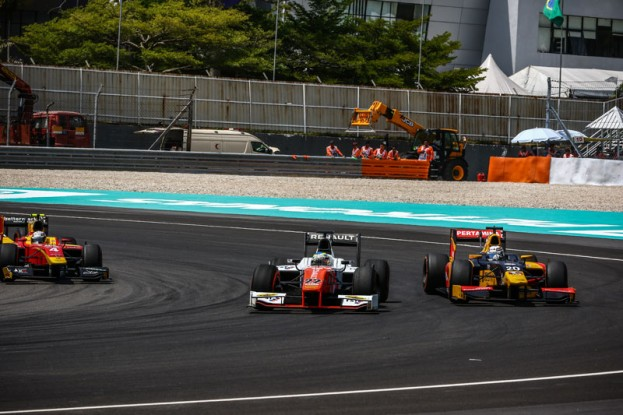race car: (420, 224, 579, 309), (246, 228, 390, 316), (1, 211, 114, 286)
